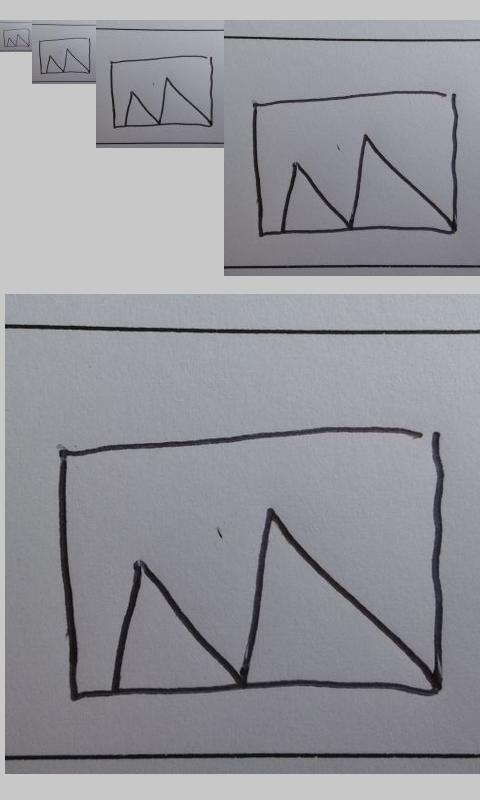image_view: (51, 423, 450, 702), (248, 89, 461, 240), (108, 53, 215, 129), (38, 37, 91, 75), (3, 28, 30, 48)
